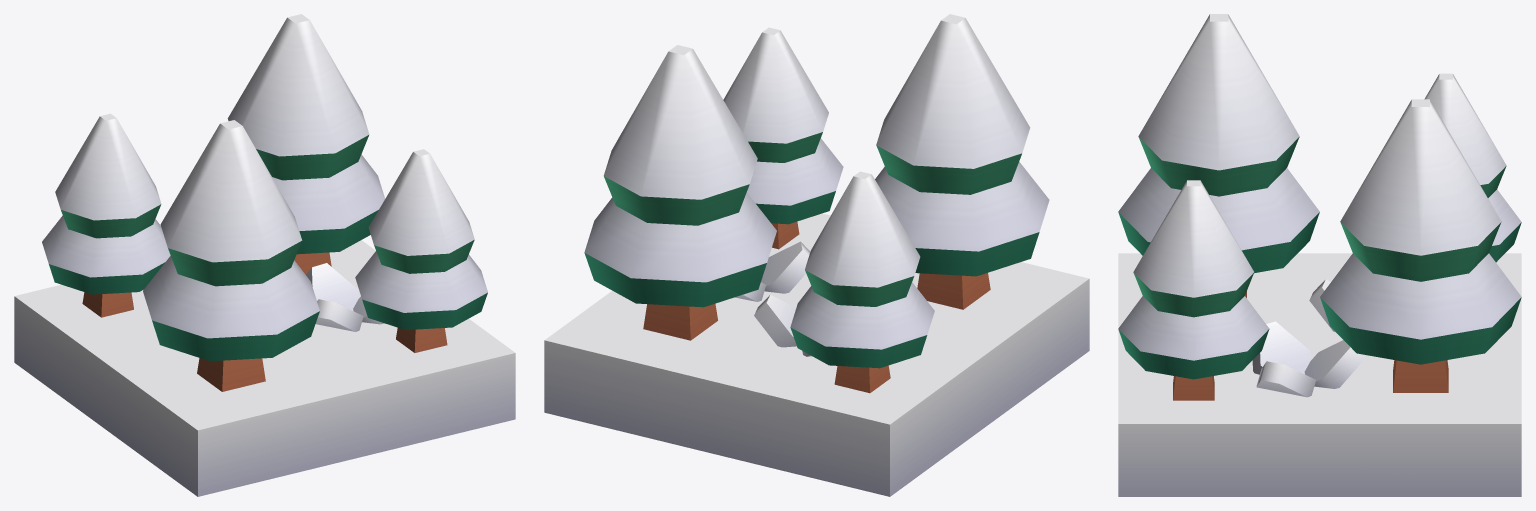
File: snow-tile-tree-quad.fbx
The picture shows the model from 3 angles, left to right: view 1: azimuth 30°, elevation 25°; view 2: azimuth 150°, elevation 25°; view 3: azimuth 270°, elevation 25°; orthographic projection. The views are drawn at different scales.
Parts seen in each view (by area): view 1: snow-tile-tree-quad; view 2: snow-tile-tree-quad; view 3: snow-tile-tree-quad.
Boxes of the visible parts, <box> form: snow-tile-tree-quad: <box>14,14,515,496</box>; snow-tile-tree-quad: <box>544,14,1089,496</box>; snow-tile-tree-quad: <box>1118,14,1521,496</box>.
Bounding box in the file's own units: 100 × 96 × 100.
